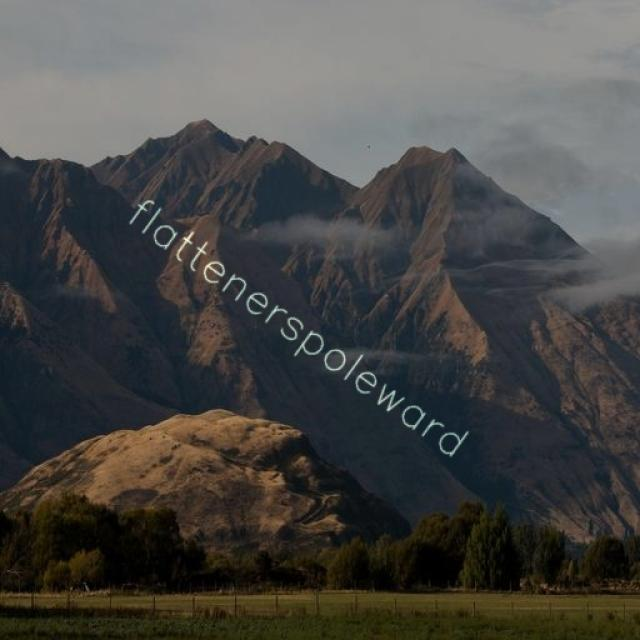watermark: (113, 186, 486, 468)
